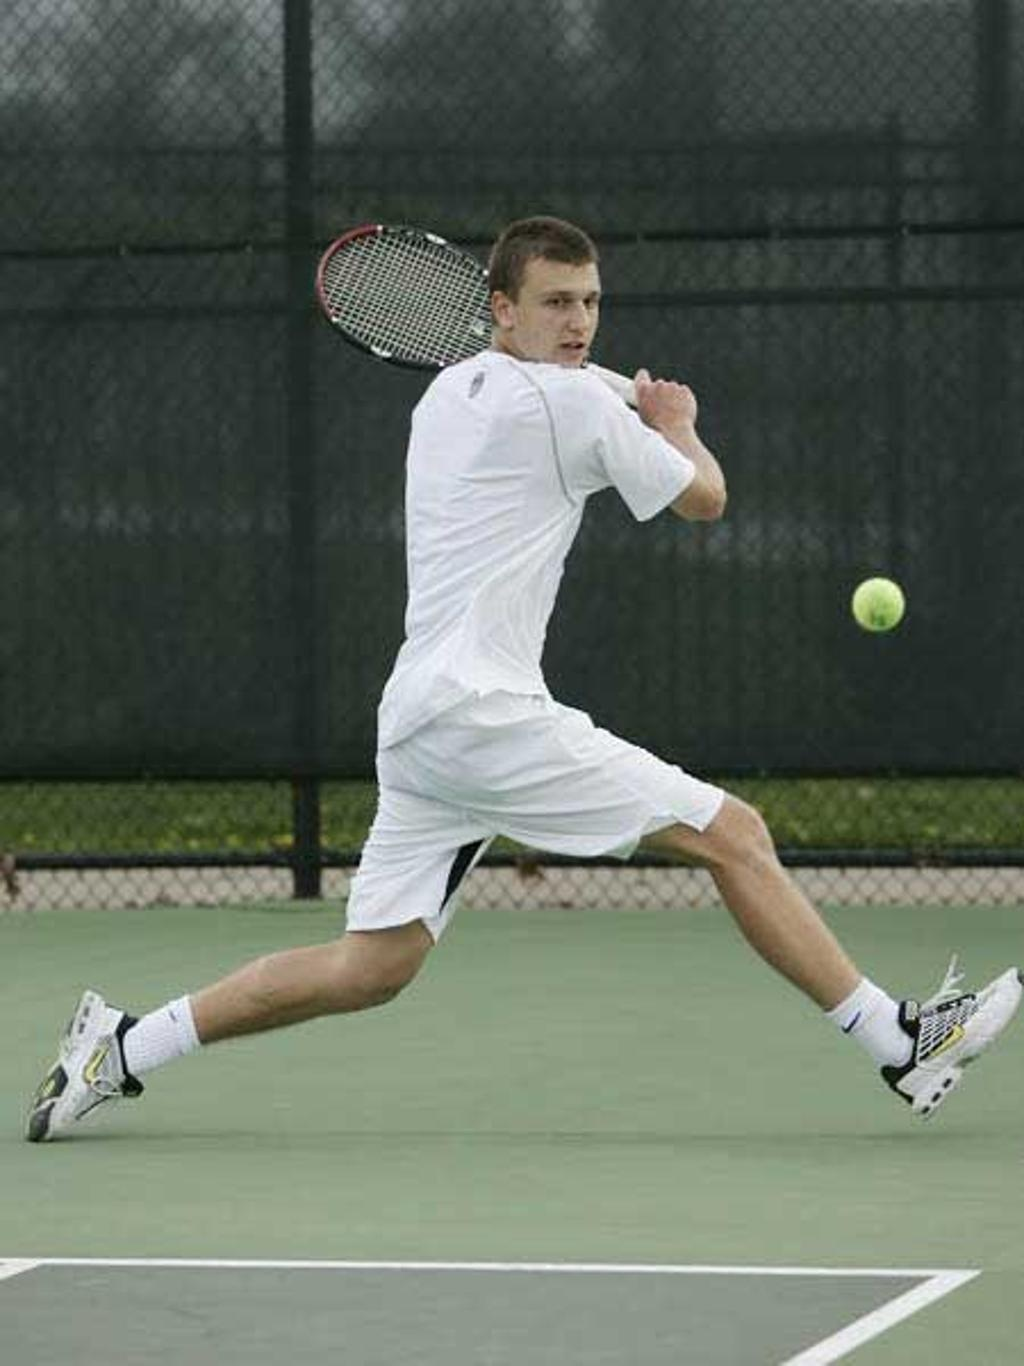face: (515, 259, 600, 376)
